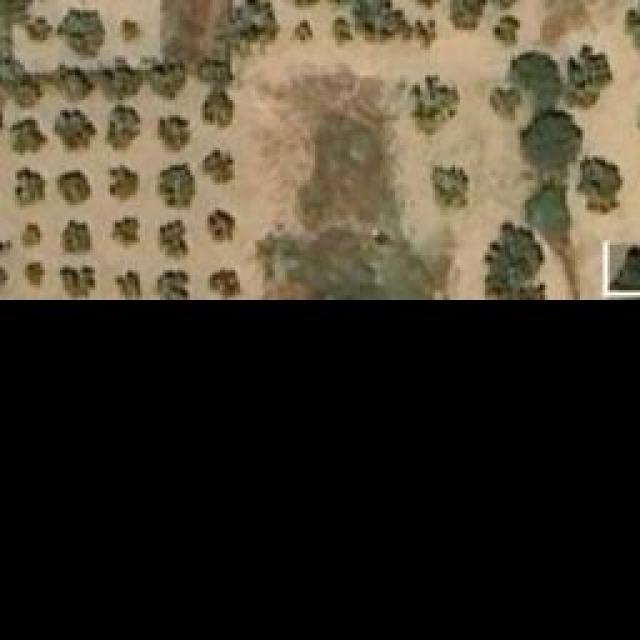Tree: (157, 150, 235, 210), (485, 225, 545, 298), (523, 110, 576, 170), (410, 73, 460, 136), (560, 50, 608, 110), (508, 50, 559, 105), (57, 8, 105, 61), (578, 155, 621, 213), (353, 0, 403, 40), (53, 110, 98, 153), (230, 0, 273, 45), (430, 163, 468, 208), (55, 170, 93, 213), (105, 160, 140, 205), (105, 105, 140, 150), (7, 72, 45, 110), (485, 83, 522, 119), (155, 115, 190, 153), (55, 65, 93, 100), (158, 220, 191, 260), (60, 265, 98, 298), (203, 90, 236, 128), (10, 118, 45, 153), (15, 168, 45, 208), (60, 220, 93, 255), (207, 268, 245, 298), (153, 63, 186, 96), (448, 0, 488, 25), (493, 15, 523, 48), (103, 68, 136, 98), (195, 57, 230, 85), (115, 270, 148, 298), (207, 208, 235, 241), (158, 268, 188, 298), (112, 218, 140, 248), (25, 15, 55, 42), (23, 263, 46, 296), (118, 18, 143, 44), (20, 222, 43, 250), (290, 18, 313, 43), (330, 20, 353, 45)
